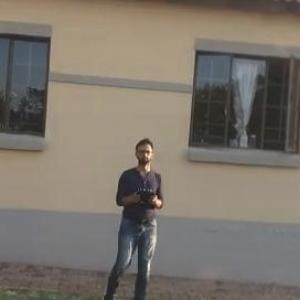follow: (98, 132, 167, 299)
